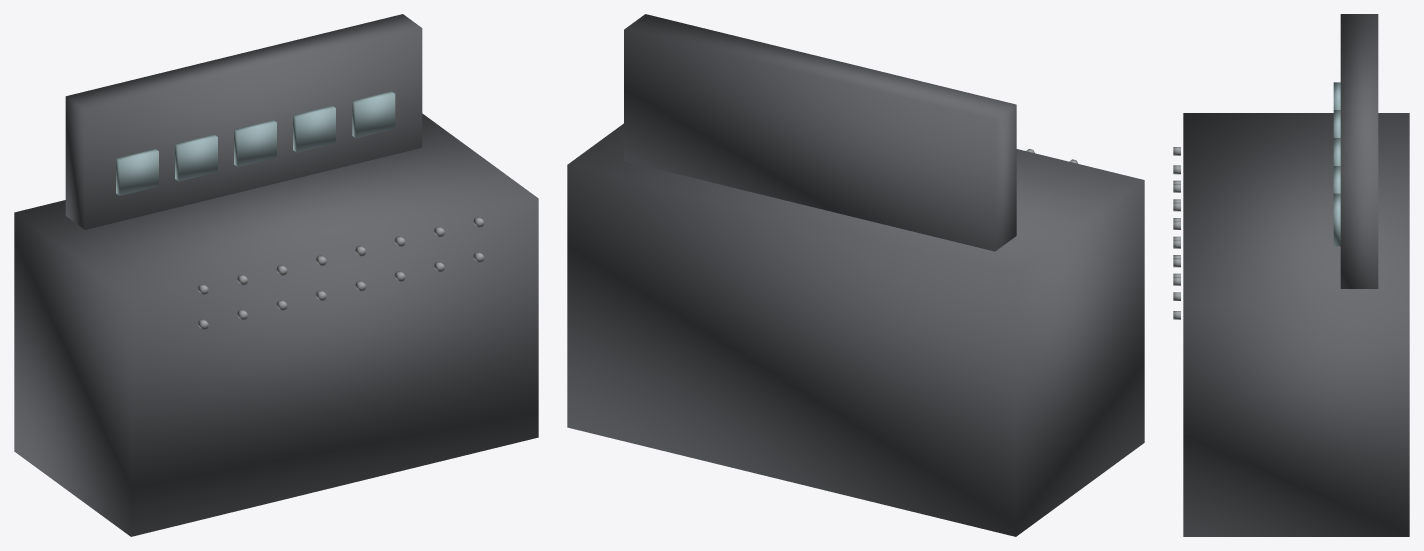
The model's file is dispatch_console__reinforced.glb.
3 renders of one model, left to right at view 1: azimuth 30°, elevation 25°; view 2: azimuth 150°, elevation 25°; view 3: azimuth 270°, elevation 25°, orthographic. The views are drawn at different scales.
Visible parts, largest first — view 1: world; view 2: world; view 3: world.
Boxes of the visible parts, bbox=[...] form: world: bbox=[14, 14, 538, 536]; world: bbox=[567, 14, 1144, 536]; world: bbox=[1173, 14, 1409, 536].
Size of the model in its own units: 1.49 by 1.25 by 0.7751.
